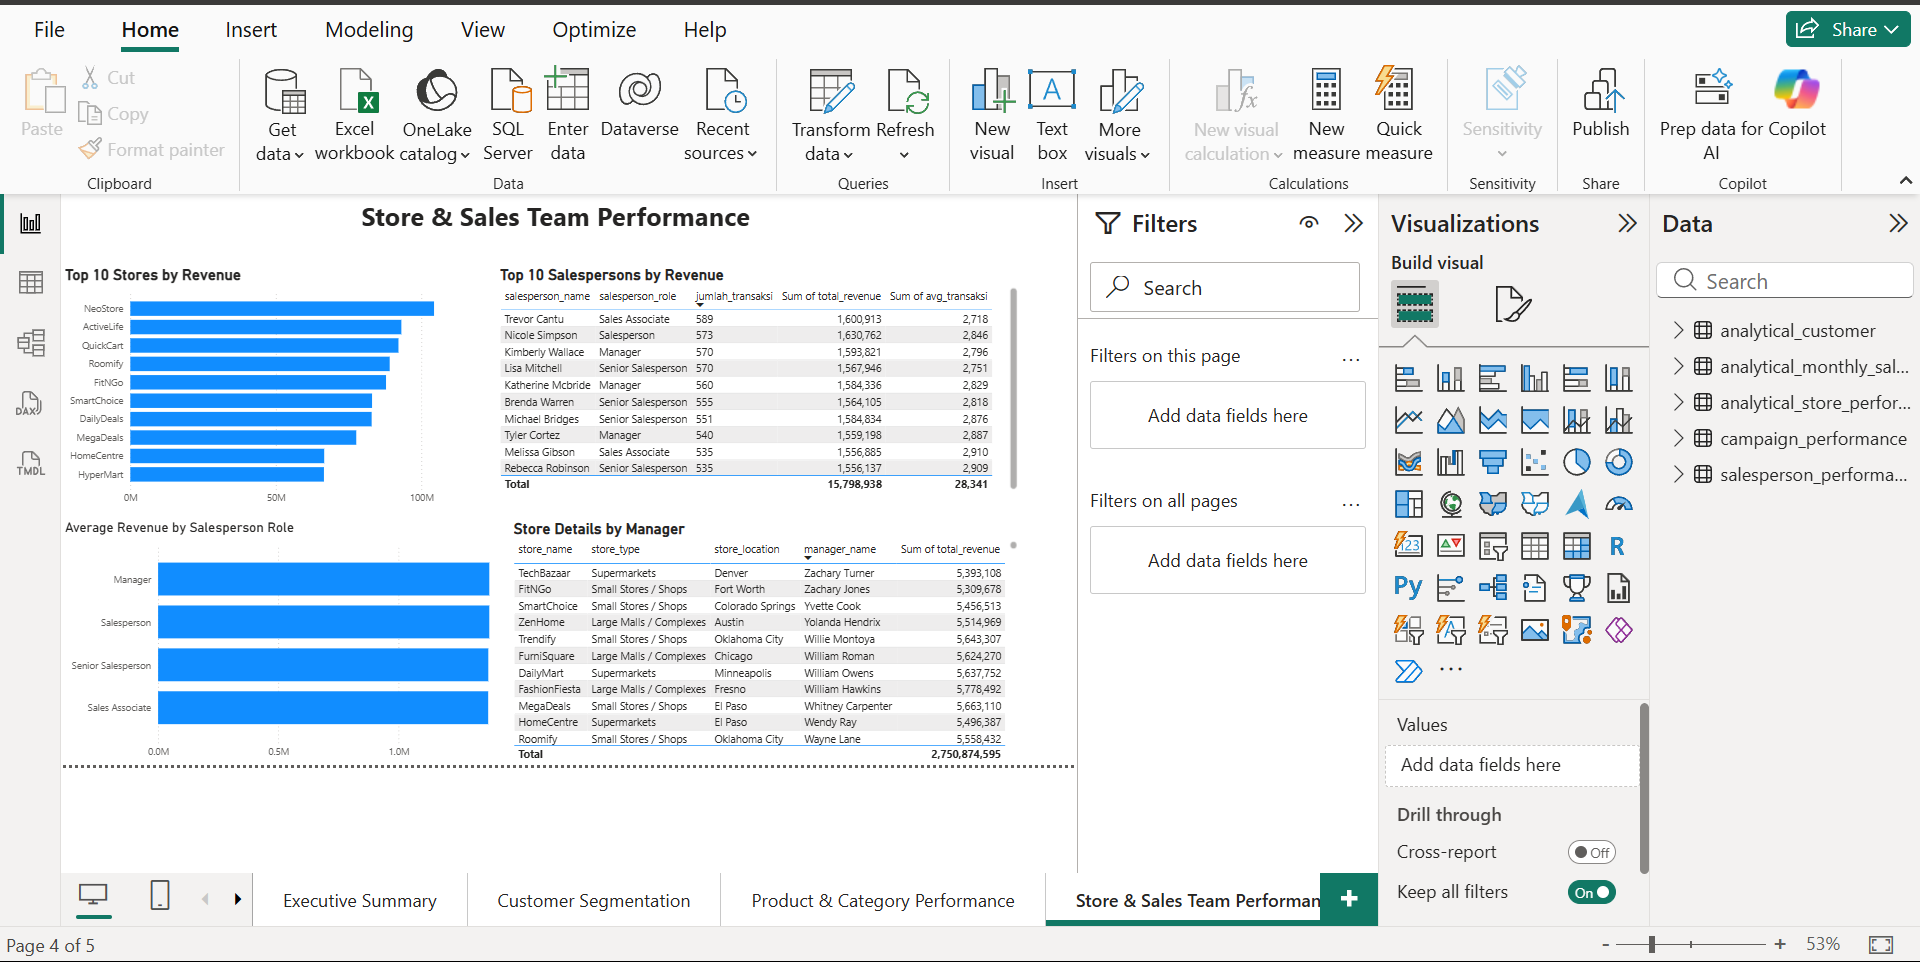

This screenshot's page, from the dashboard's own definition file:
{"tool":"powerbi","page":{"name":" Store & Sales Team Performance","canvas":[1280,720],"ordinal":3},"visuals":[{"type":"textbox","box":[364.7,0,549.9,58.6],"z":0},{"type":"clusteredBarChart","title":"Top 10 Stores by Revenue","fields":{"Category":["analytical_store_performance.store_name"],"Y":["Sum(analytical_store_performance.total_revenue)"]},"box":[0,90.7,548,309.9],"z":1000},{"type":"clusteredBarChart","title":"Average Revenue by Salesperson Role","fields":{"Category":["salesperson_performance.salesperson_role"],"Y":["Avg(salesperson_performance.total_revenue)"]},"box":[0,410.1,565,309.9],"z":2000},{"type":"tableEx","title":"Top 10 Salespersons by Revenue","fields":{"Values":["salesperson_performance.salesperson_name","salesperson_performance.salesperson_role","salesperson_performance.jumlah_transaksi","Sum(salesperson_performance.total_revenue)","Sum(salesperson_performance.avg_transaksi)"]},"box":[548,90.7,661.4,289.1],"z":3000},{"type":"tableEx","title":"Store Details by Manager","fields":{"Values":["analytical_store_performance.store_name","analytical_store_performance.store_type","analytical_store_performance.store_location","analytical_store_performance.manager_name","Sum(analytical_store_performance.total_revenue)"]},"box":[565,410.1,644.4,309.9],"z":4000}]}

Visuals, with their boxes on the page's 1280x720 design canvas (x1, y1, x2, y2). These are canvas units, not pixel positions in the 1920x962 screenshot, which may show the page scaled, cropped or inside an application window:
textbox: region(365, 0, 915, 59)
"Top 10 Stores by Revenue" clusteredBarChart: region(0, 91, 548, 401)
"Average Revenue by Salesperson Role" clusteredBarChart: region(0, 410, 565, 720)
"Top 10 Salespersons by Revenue" tableEx: region(548, 91, 1209, 380)
"Store Details by Manager" tableEx: region(565, 410, 1209, 720)
